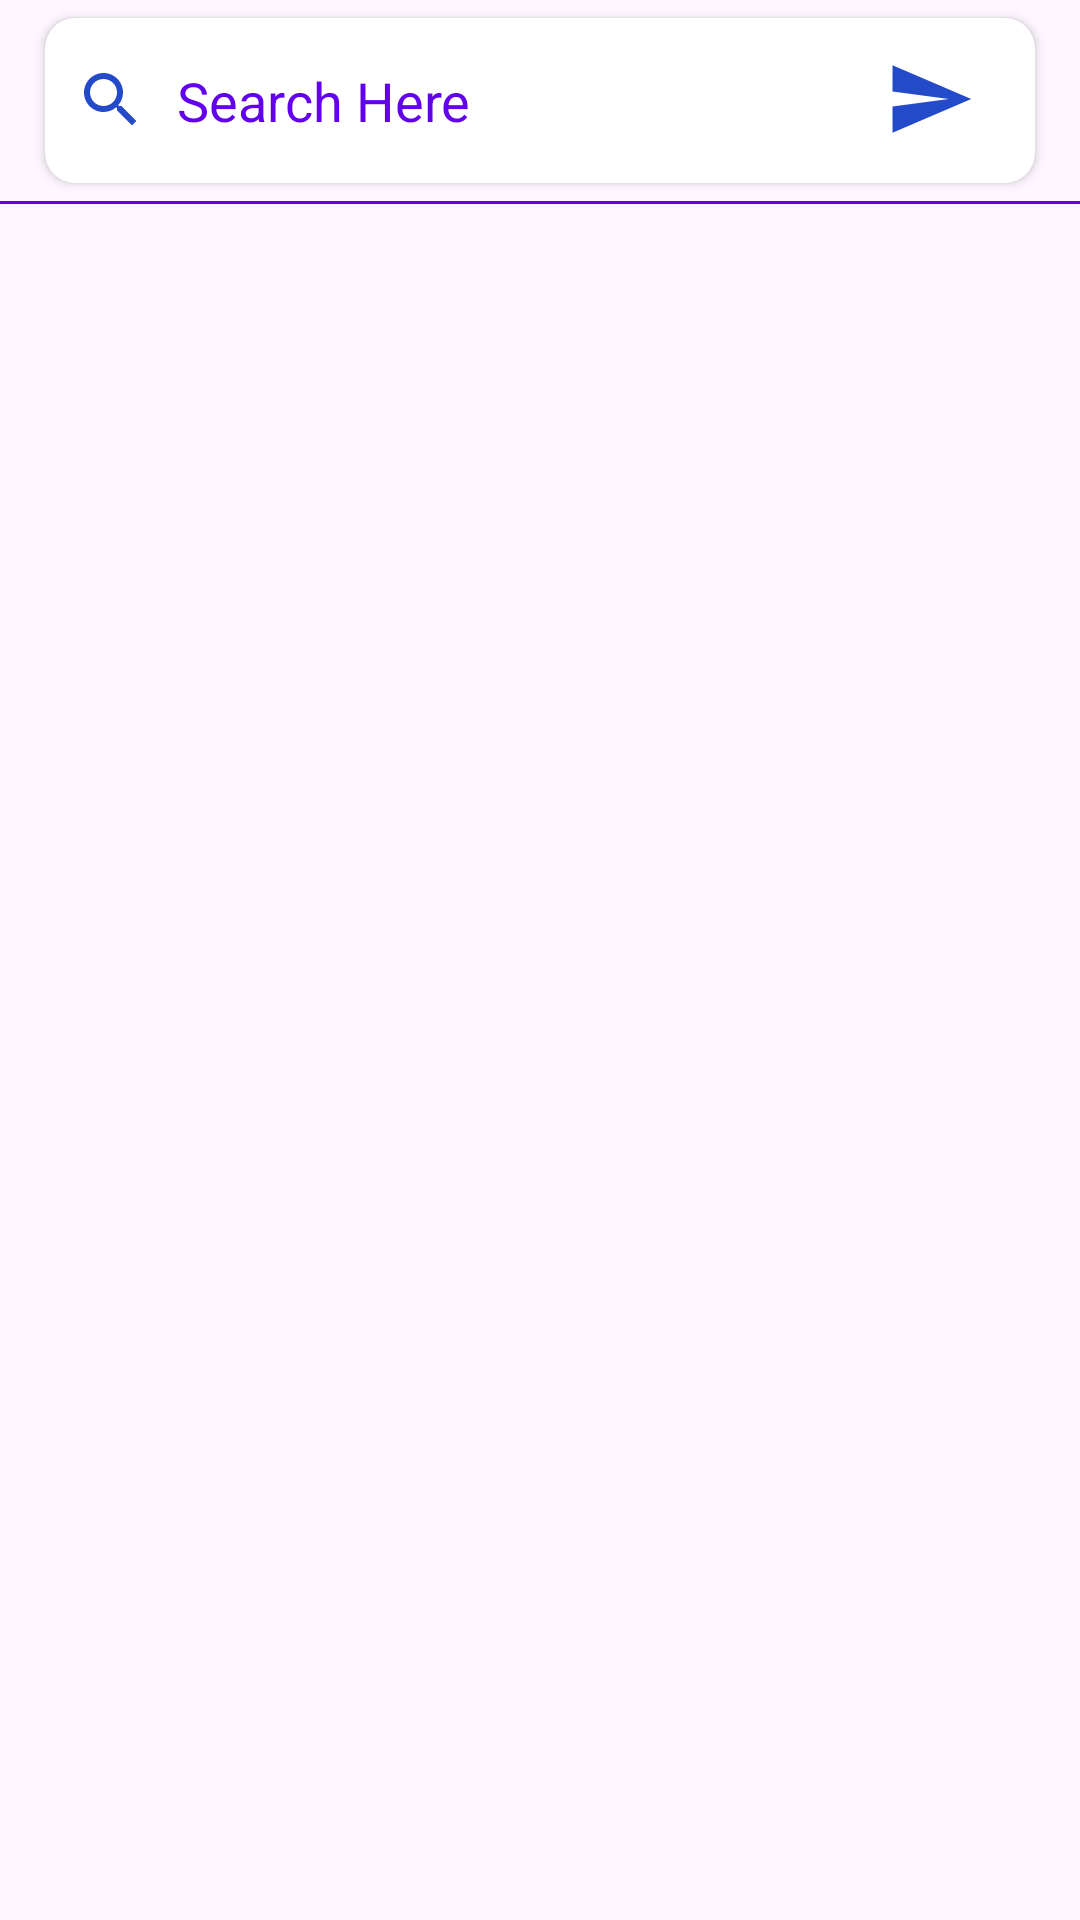

Icons on this 1080 × 1920 Android screen, each with the point to tap as (x=x, y=y):
send: (x=931, y=99)
